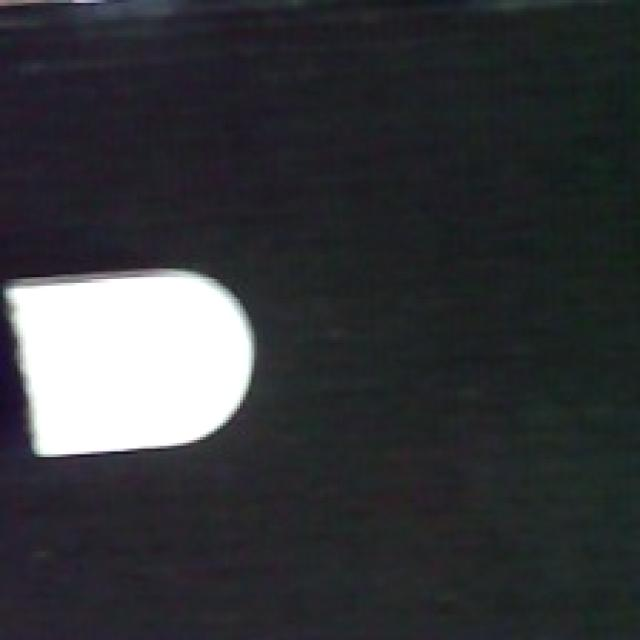defected: (3, 263, 260, 460)
